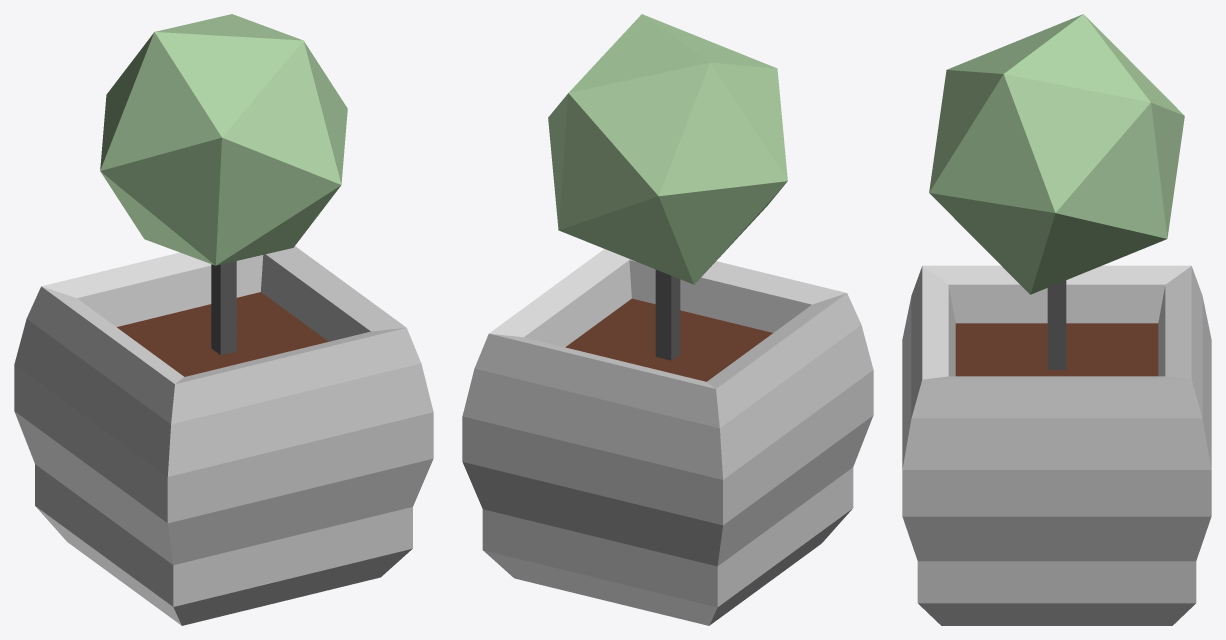
File: alive_plant_1.fbx
The picture shows the model from 3 angles, left to right: view 1: azimuth 30°, elevation 25°; view 2: azimuth 150°, elevation 25°; view 3: azimuth 270°, elevation 25°; orthographic projection. The views are drawn at different scales.
Parts seen in each view (by area): view 1: Cube.005, Icosphere; view 2: Cube.005, Icosphere; view 3: Cube.005, Icosphere.
Boxes of the visible parts, x1,y1,x2,y2 form: Cube.005: (14, 246, 433, 625); Icosphere: (100, 14, 347, 265); Cube.005: (462, 249, 873, 625); Icosphere: (548, 14, 787, 284); Cube.005: (902, 265, 1211, 625); Icosphere: (929, 14, 1184, 294).
Size of the model in its own units: 108 by 206 by 108.
